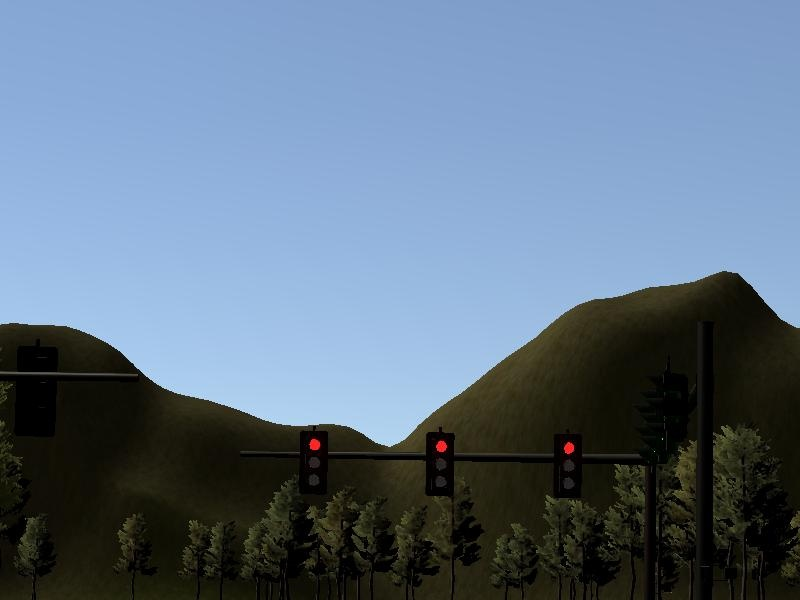traffic_light_red: (285, 432, 615, 498)
